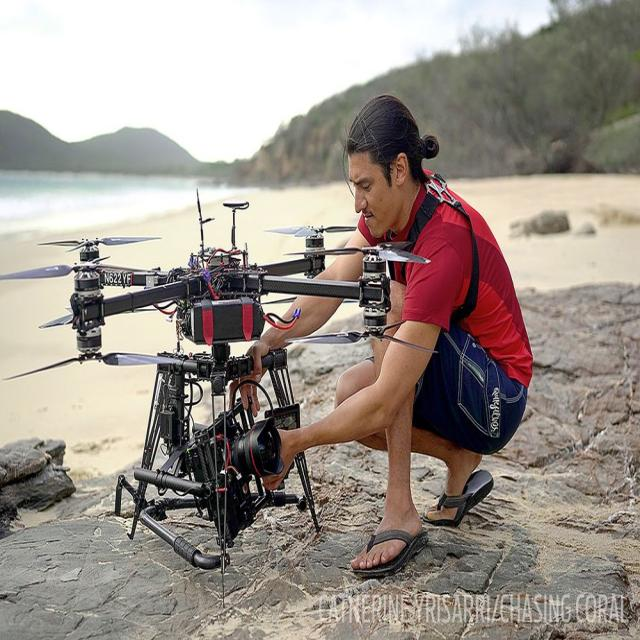drone: (10, 202, 446, 398)
